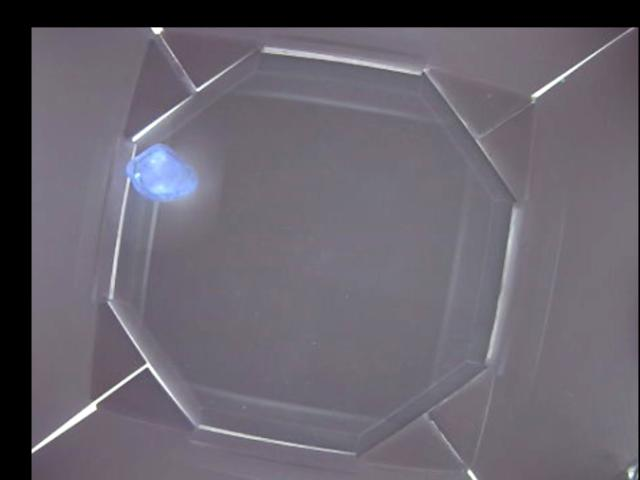Pebble: (122, 145, 197, 202)
